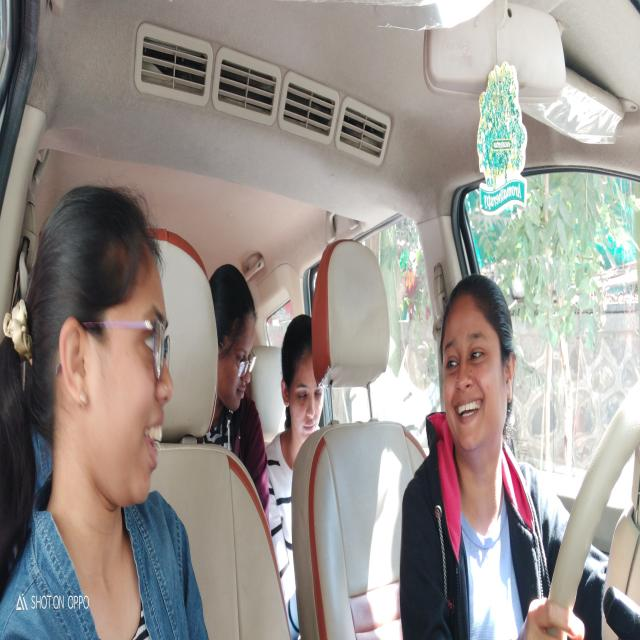LeftRight: (438, 271, 516, 456)
person: (33, 172, 175, 512), (211, 262, 258, 421), (280, 313, 325, 435)
talking: (141, 412, 165, 473), (450, 396, 486, 425)
